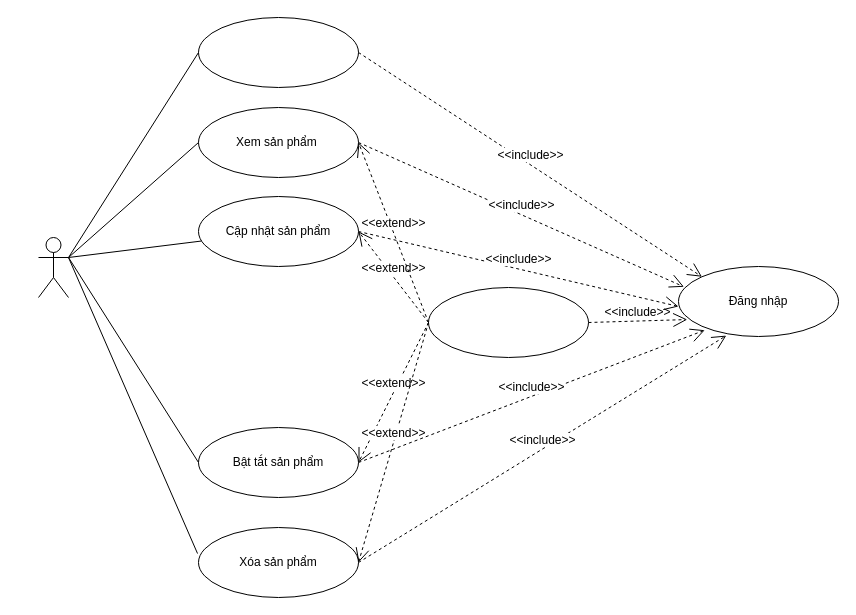
The diagram is 856 pixels wide and 615 high, and some of its shapes have lost their labels. Here are the shapes that lost their labels. From the top down, the centre of each, then its label:
At pixel 278 52: "Thêm thông tin sản phẩm".
At pixel 53 267: "Quản Trị Viên".
At pixel 508 322: "Tìm kiếm sản phẩm".
